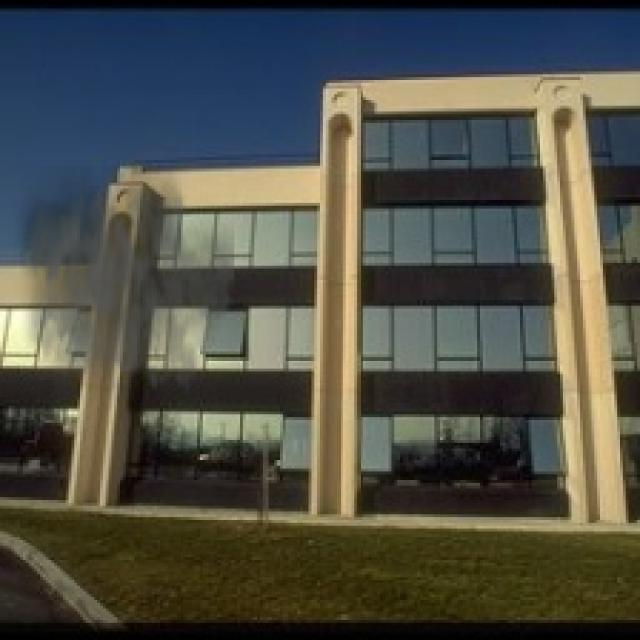Smoke: (8, 166, 235, 420)
